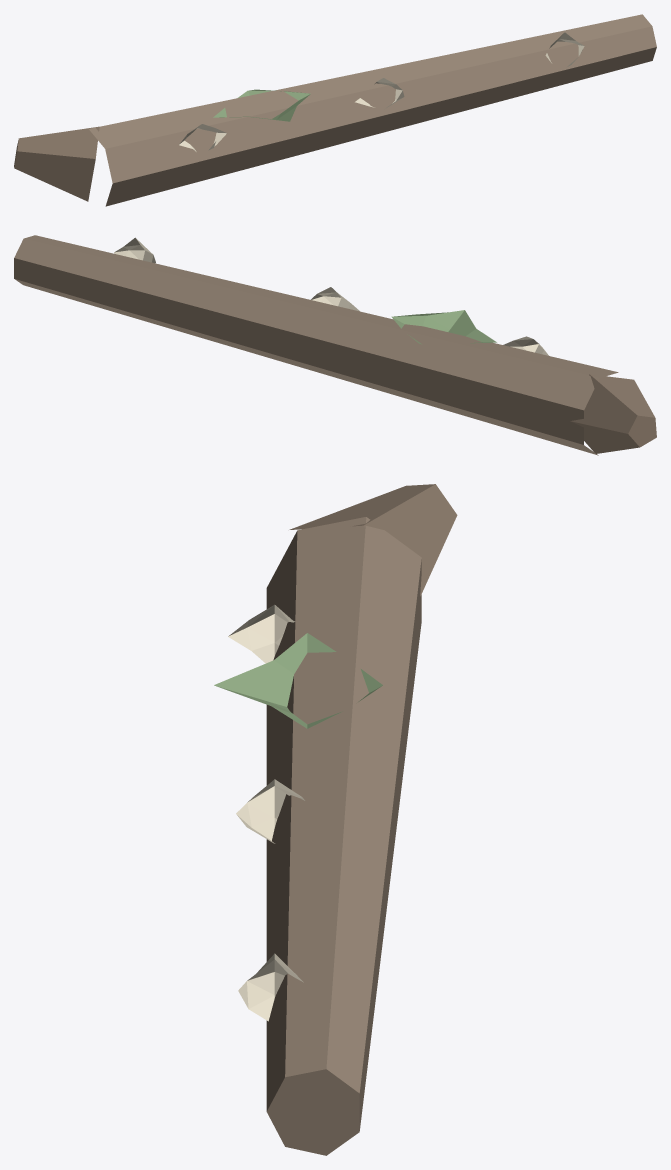
File: log_v28.glb
3 renders of one model, top to bottom at view 1: azimuth 30°, elevation 25°; view 2: azimuth 150°, elevation 25°; view 3: azimuth 270°, elevation 25°, orthographic. The views are drawn at different scales.
Parts seen in each view (by area): view 1: lod0; view 2: lod0; view 3: lod0.
Boxes of the visible parts, x1,y1,x2,y2 form: lod0: (14, 14, 656, 206); lod0: (14, 235, 656, 455); lod0: (214, 484, 457, 1155).
Size of what is drawn, in the model's own units: 3.44 by 0.4421 by 0.5981.
